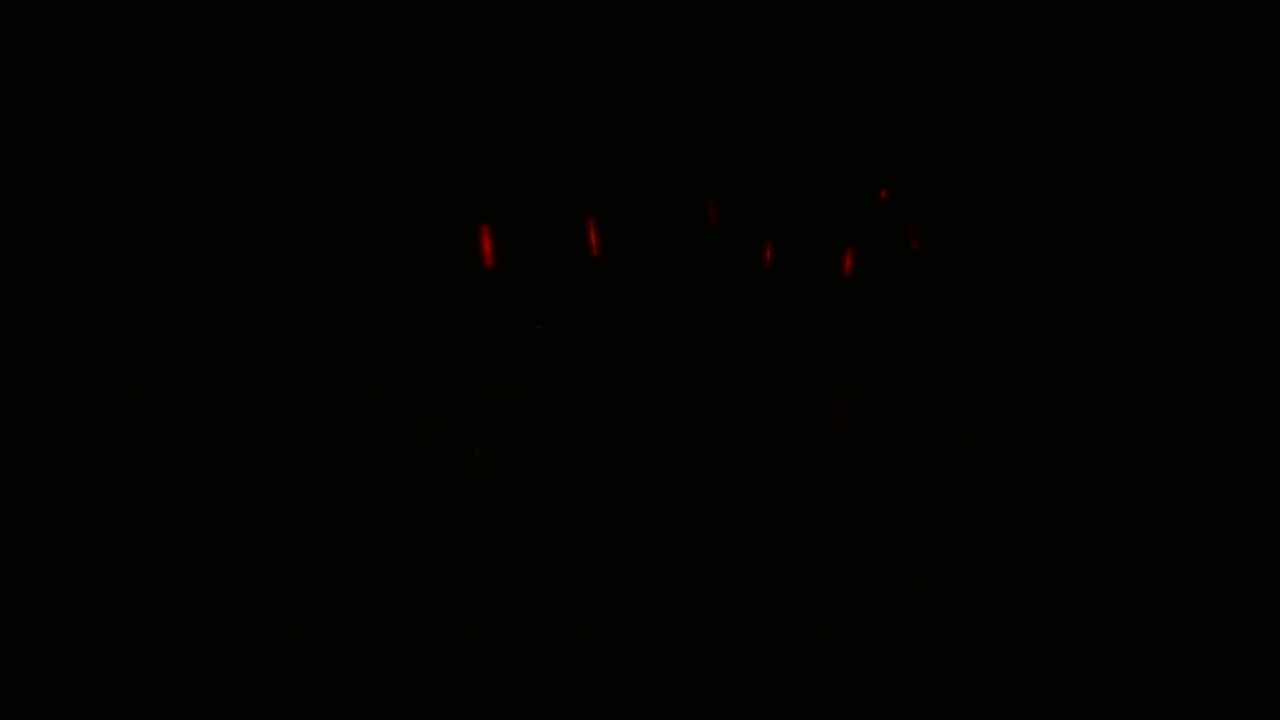pair1: (476, 208, 612, 276)
pair2: (752, 229, 865, 283)
